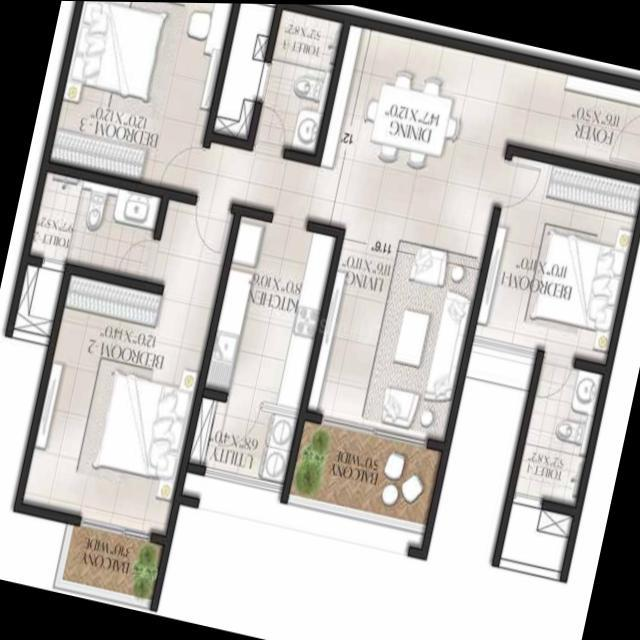Balcony-Sitout: (288, 420, 440, 529), (58, 525, 162, 604)
Bedroom: (48, 1, 235, 194)
Bedroom with Toilet: (18, 168, 236, 539), (470, 149, 640, 509)
Dining: (351, 55, 476, 182)
Enterance-Foyer: (521, 67, 640, 172)
Kitchen: (204, 215, 334, 408)
Living: (306, 220, 483, 440)
Toilet: (29, 172, 161, 279), (254, 9, 342, 154), (515, 360, 602, 503)
Utility: (189, 398, 296, 484)
